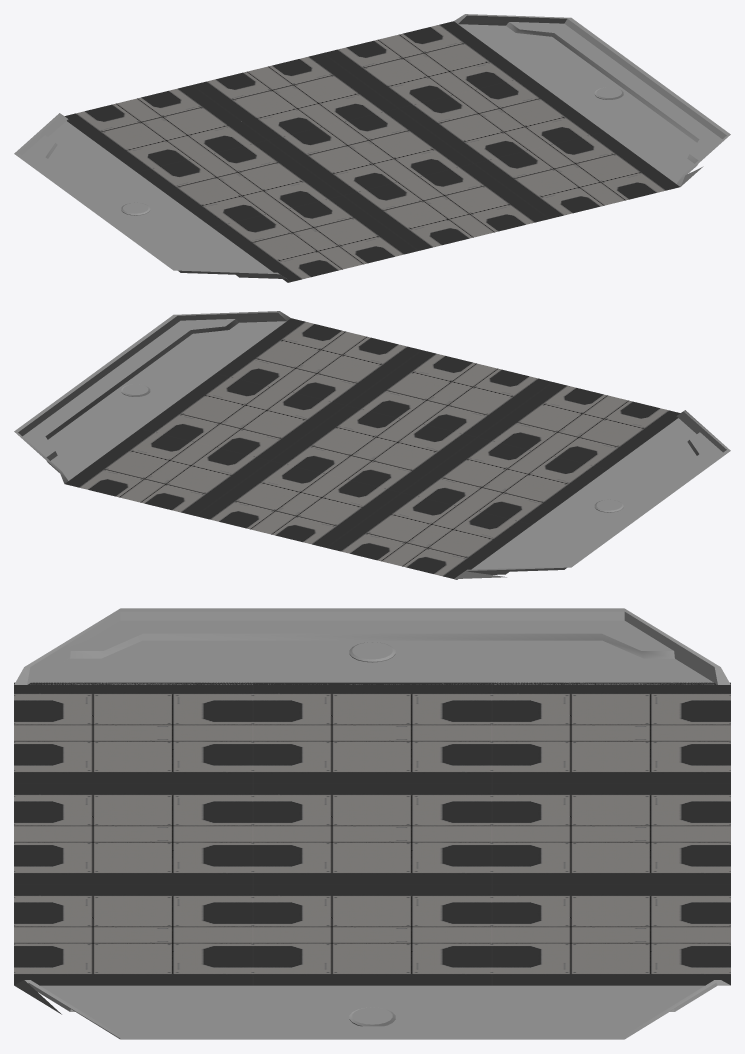
Rendered from set_suelo.FBX.
3 renders of one model, top to bottom at view 1: azimuth 30°, elevation 25°; view 2: azimuth 150°, elevation 25°; view 3: azimuth 270°, elevation 25°, orthographic. The views are drawn at different scales.
Parts seen in each view (by area): view 1: Plano_suelo_low001; view 2: Plano_suelo_low001; view 3: Plano_suelo_low001.
Part boxes in pixels (x1=…): Plano_suelo_low001: x1=14, y1=14, x2=730, y2=282; Plano_suelo_low001: x1=14, y1=311, x2=730, y2=579; Plano_suelo_low001: x1=14, y1=608, x2=730, y2=1039.
Bounding box in the file's own units: 1505 × 19.81 × 1060.
